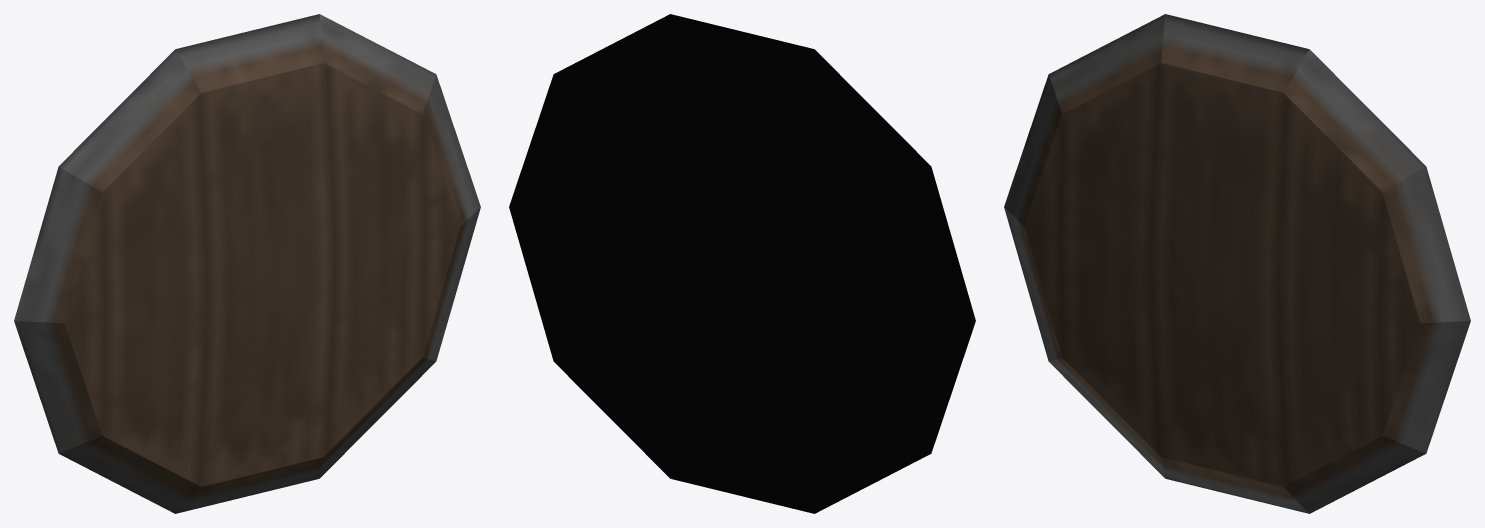
Rendered from shield.fbx.
The picture shows the model from 3 angles, left to right: view 1: azimuth 30°, elevation 25°; view 2: azimuth 150°, elevation 25°; view 3: azimuth 330°, elevation 25°; orthographic projection.
Parts seen in each view (by area): view 1: pCylinder22; view 2: pCylinder22; view 3: pCylinder22.
Boxes of the visible parts, <box> form: pCylinder22: <box>14,14,480,513</box>; pCylinder22: <box>509,14,975,513</box>; pCylinder22: <box>1004,14,1470,513</box>.
Size of the model in its own units: 299 by 284 by 29.49.
